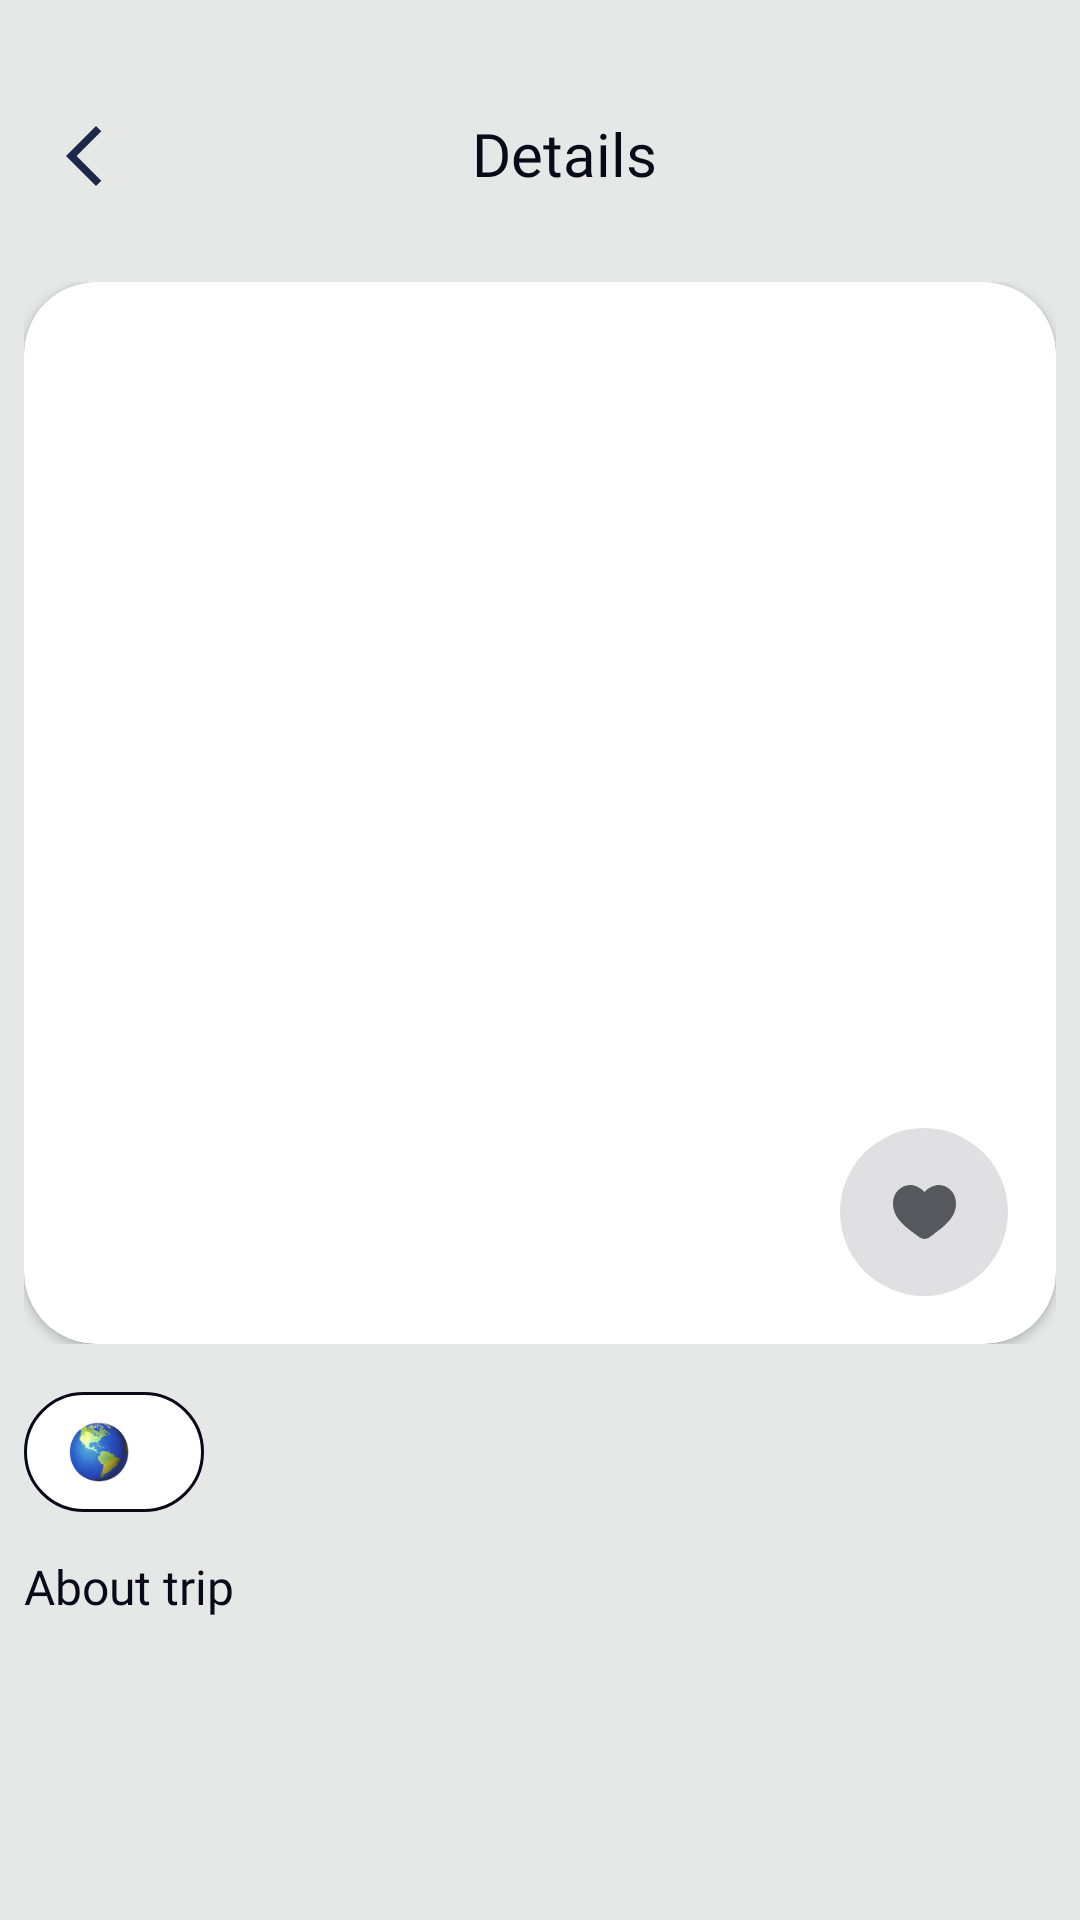

Icon click points for this 1080px×1920px phone screenshot, format (x=x, y=y):
arrow back: (x=83, y=156)
favorite: (x=924, y=1212)
